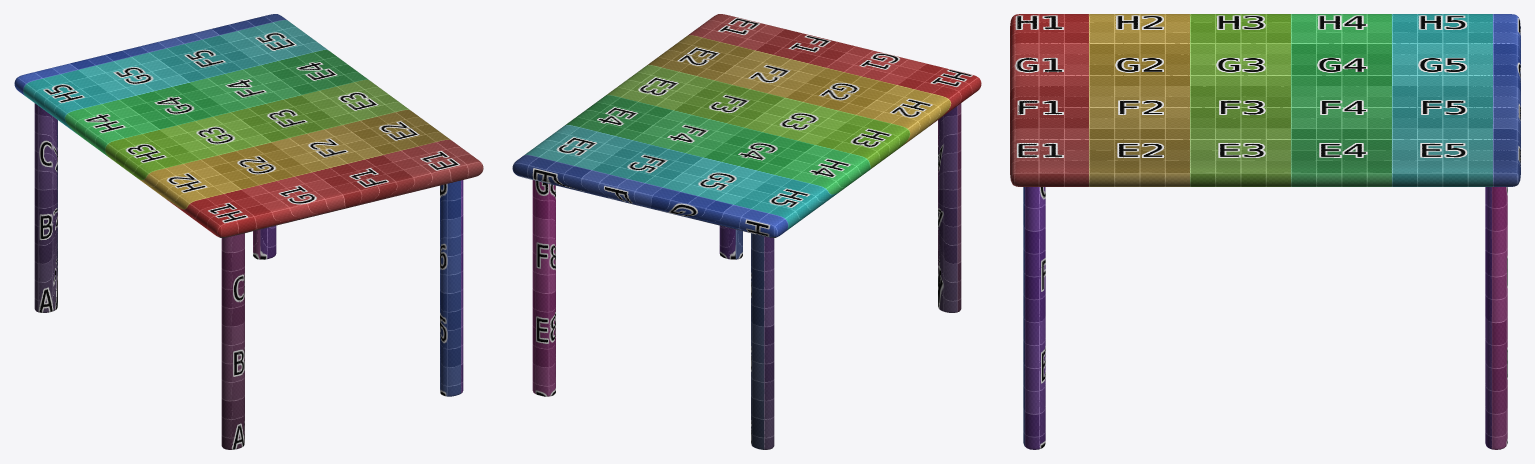
File: Table.glb
3 views of the same model, side by side, from view 1: azimuth 30°, elevation 25°; view 2: azimuth 150°, elevation 25°; view 3: azimuth 270°, elevation 25° (orthographic). The views are drawn at different scales.
Visible parts, largest first — view 1: Table; view 2: Table; view 3: Table.
Boxes of the visible parts, <box> form: Table: <box>14,14,483,449</box>; Table: <box>512,14,981,449</box>; Table: <box>1010,14,1520,449</box>.
Size of what is drawn, in the model's own units: 0.8893 by 0.7438 by 1.19.
Materials: 1 (1 with a texture image).
